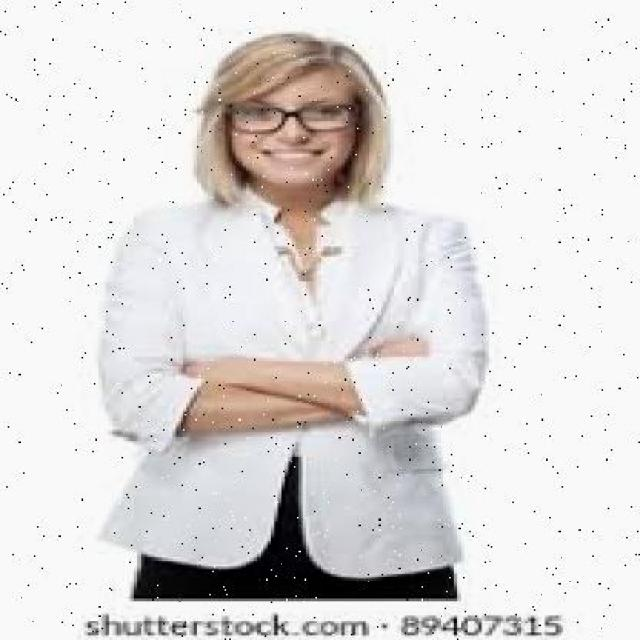glasses: (198, 94, 362, 141)
